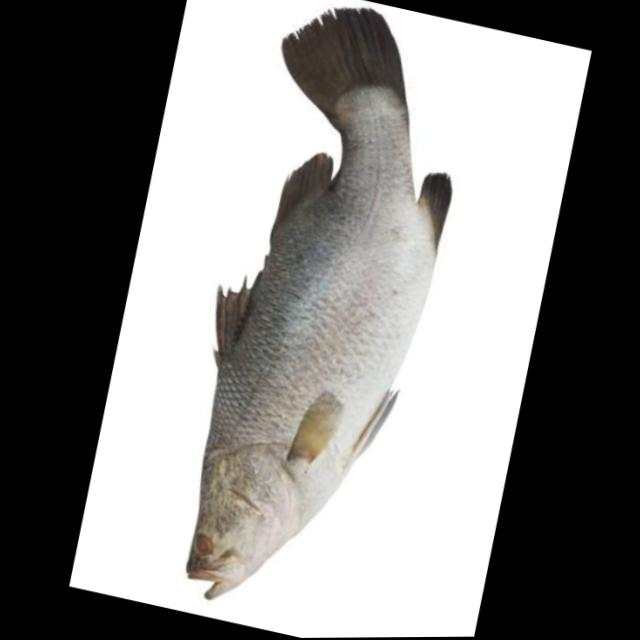Seabass: (137, 0, 500, 639)
